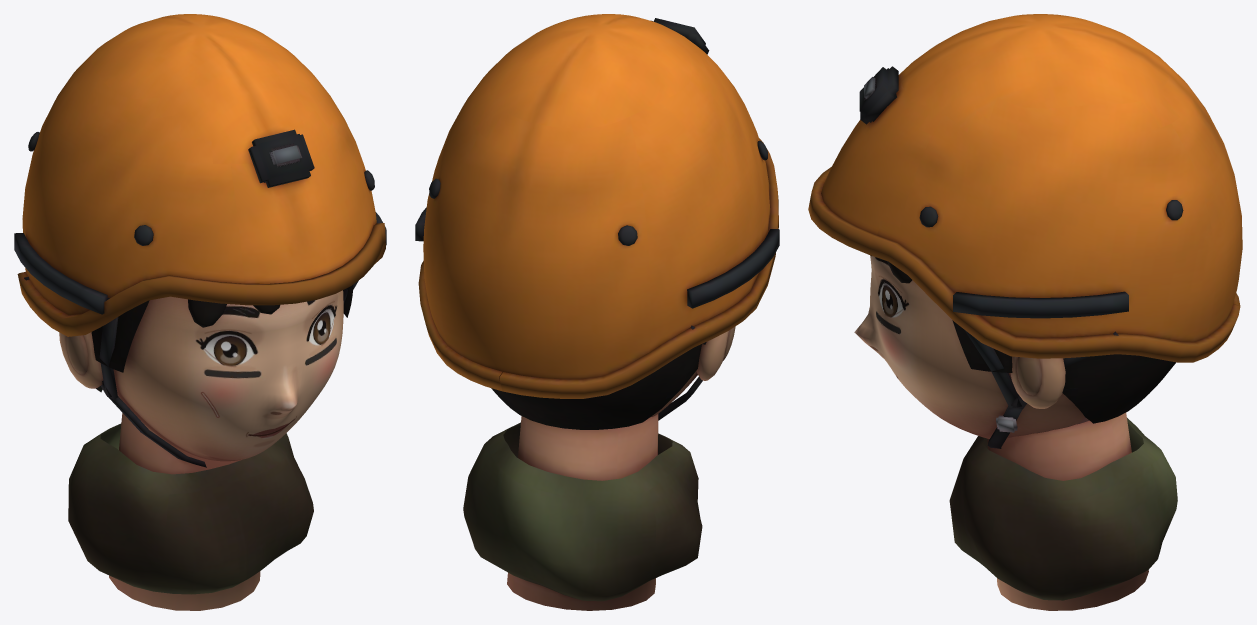
The model's file is cabeza-shotgun-f.glb.
The picture shows the model from 3 angles, left to right: view 1: azimuth 30°, elevation 25°; view 2: azimuth 150°, elevation 25°; view 3: azimuth 270°, elevation 25°; orthographic projection. The views are drawn at different scales.
Parts seen in each view (by area): view 1: h_Head; view 2: h_Head; view 3: h_Head.
Part boxes in pixels (x1,y1,x2,y2): h_Head: (14, 14, 386, 610); h_Head: (415, 14, 779, 610); h_Head: (808, 14, 1242, 610).
Bounding box in the file's own units: 0.2213 × 0.3816 × 0.2686.
Materials: 1 (1 with a texture image).
